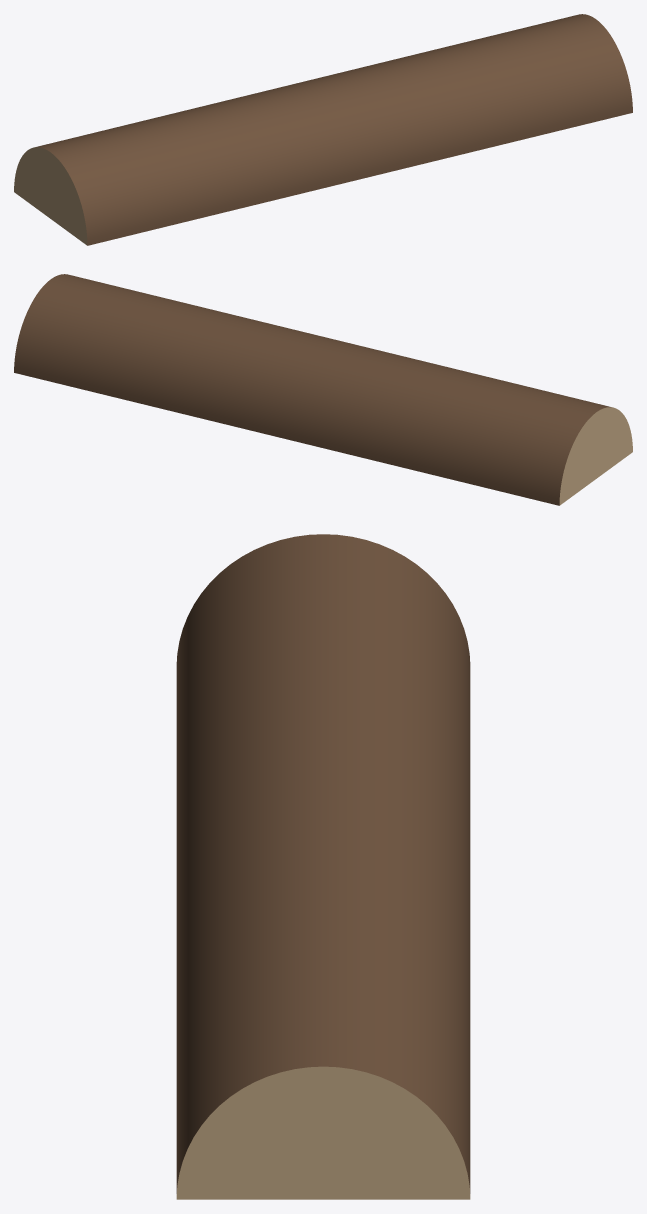
The model's file is SM_RawLog_150_Half.fbx.
The picture shows the model from 3 angles, top to bottom: view 1: azimuth 30°, elevation 25°; view 2: azimuth 150°, elevation 25°; view 3: azimuth 270°, elevation 25°; orthographic projection. The views are drawn at different scales.
Visible parts, largest first — view 1: RawLog_150_Half; view 2: RawLog_150_Half; view 3: RawLog_150_Half.
Boxes of the visible parts, box(x1,y1,x2,y2) form: RawLog_150_Half: box(14, 14, 632, 245); RawLog_150_Half: box(14, 274, 632, 505); RawLog_150_Half: box(176, 534, 470, 1199).
Size of what is drawn, in the model's own units: 1.5 by 0.175 by 0.35.
